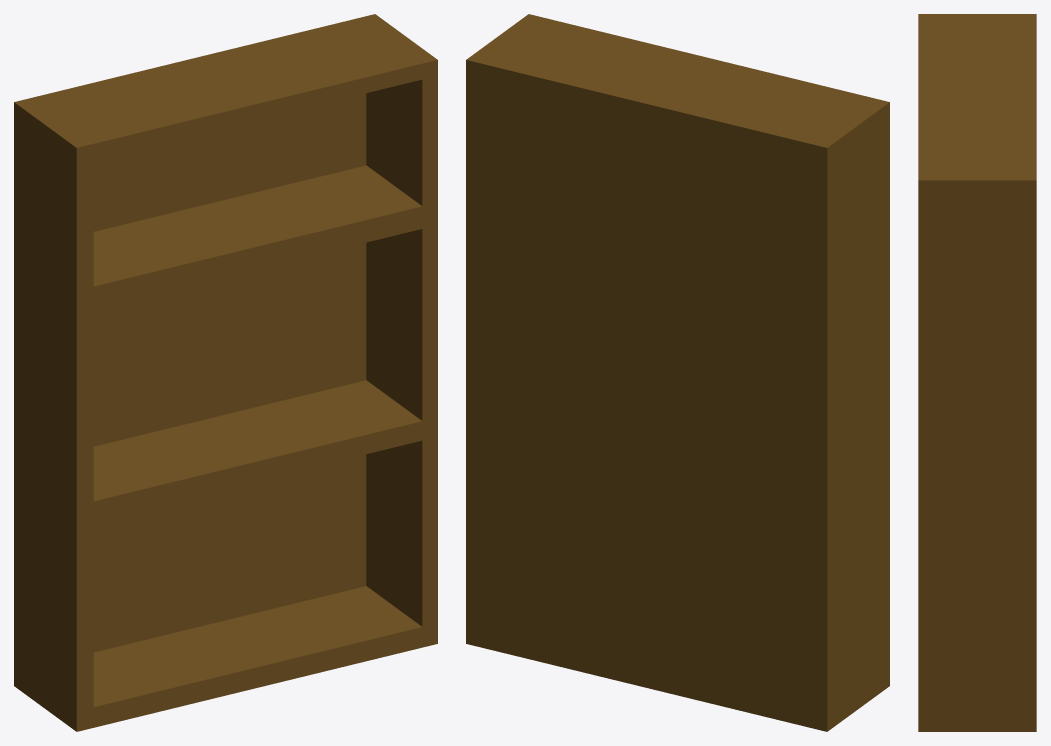
The model's file is Bookcase.glb.
3 views of the same model, side by side, from view 1: azimuth 30°, elevation 25°; view 2: azimuth 150°, elevation 25°; view 3: azimuth 270°, elevation 25° (orthographic). The views are drawn at different scales.
Parts seen in each view (by area): view 1: Cube.001; view 2: Cube.001; view 3: Cube.001.
Boxes of the visible parts, left/top/right/bottom form: Cube.001: left=14, top=14, right=437, bottom=731; Cube.001: left=466, top=14, right=889, bottom=731; Cube.001: left=918, top=14, right=1036, bottom=731.
Size of the model in its own units: 1.52 by 2.35 by 0.4566.
